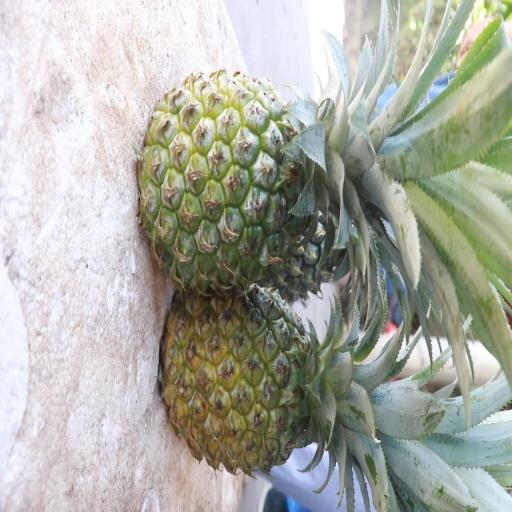------------------------------: (137, 56, 378, 284)
Pineapple - v8 v1: (163, 284, 395, 467)
